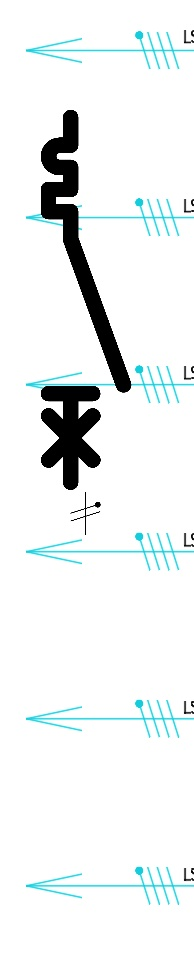interruptor_termomagnetico: (39, 108, 133, 491)
